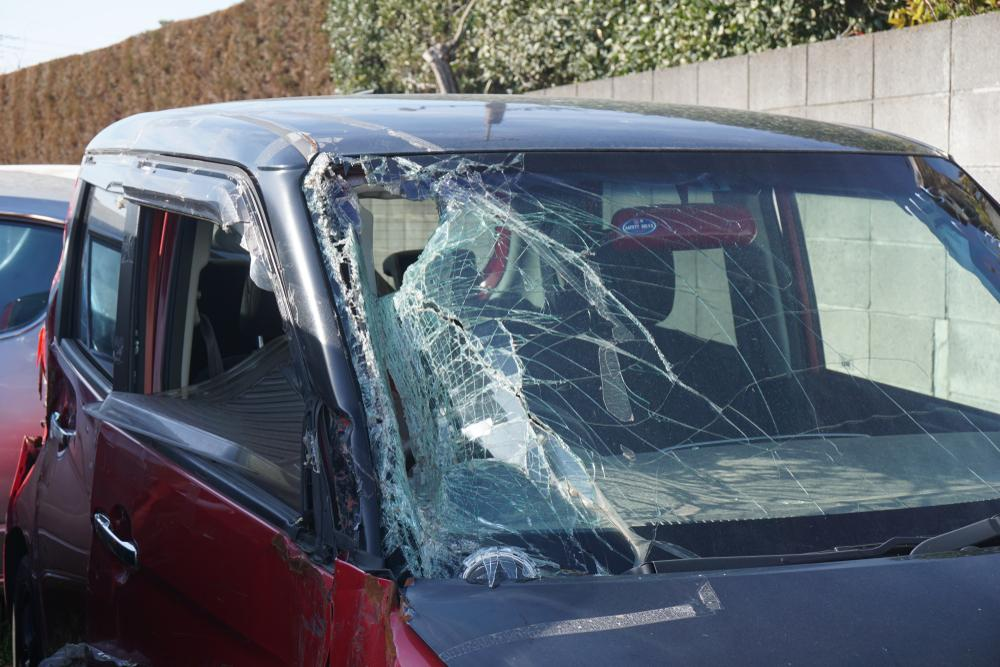glass shatter: (303, 152, 1000, 578)
